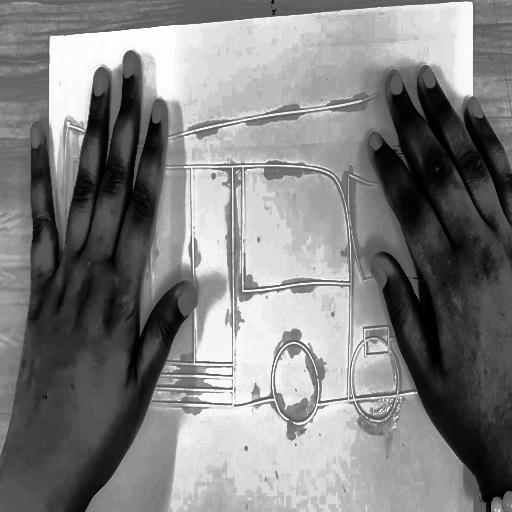bus: (54, 65, 472, 428)
top_left: (46, 30, 54, 47)
top_right: (468, 0, 479, 9)
